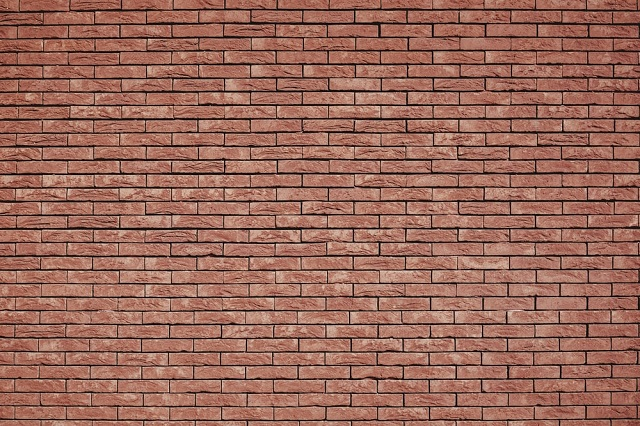wall: (3, 6, 639, 426)
